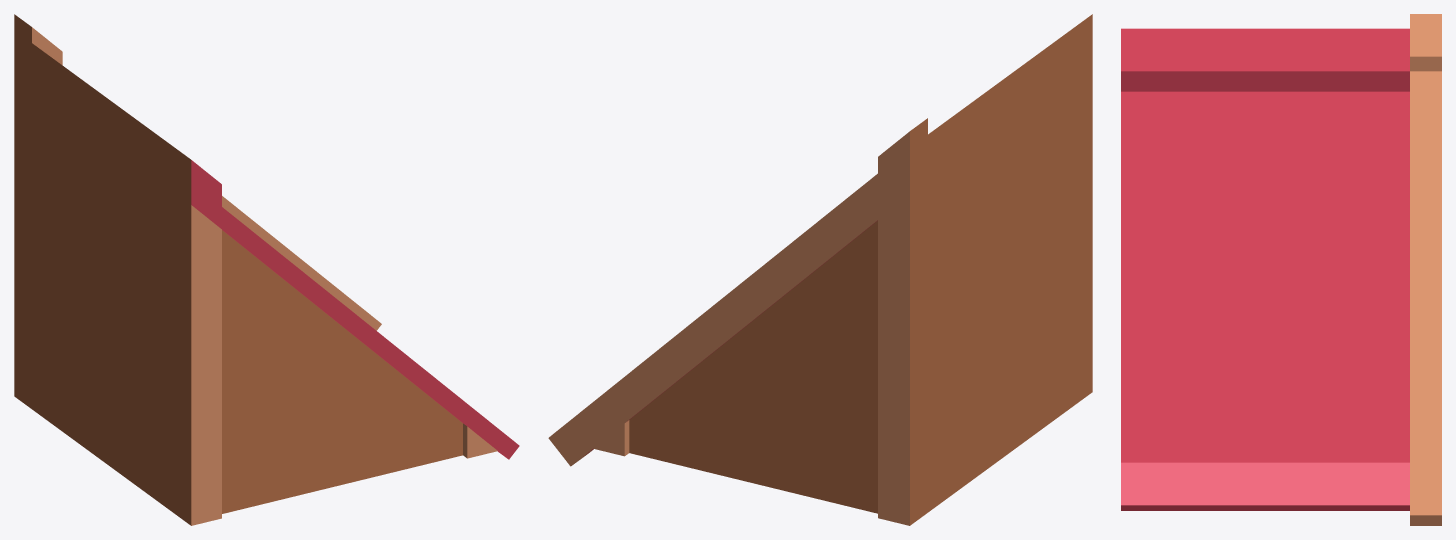
Rendered from roofHighRight.glb.
The picture shows the model from 3 angles, left to right: view 1: azimuth 30°, elevation 25°; view 2: azimuth 150°, elevation 25°; view 3: azimuth 270°, elevation 25°; orthographic projection. The views are drawn at different scales.
Visible parts, largest first — view 1: roofHighRight; view 2: roofHighRight; view 3: roofHighRight.
Boxes of the visible parts, <box> form: roofHighRight: <box>14,14,519,525</box>; roofHighRight: <box>548,14,1092,525</box>; roofHighRight: <box>1121,14,1441,525</box>.
Bounding box in the file's own units: 3.42 × 3.78 × 3.
